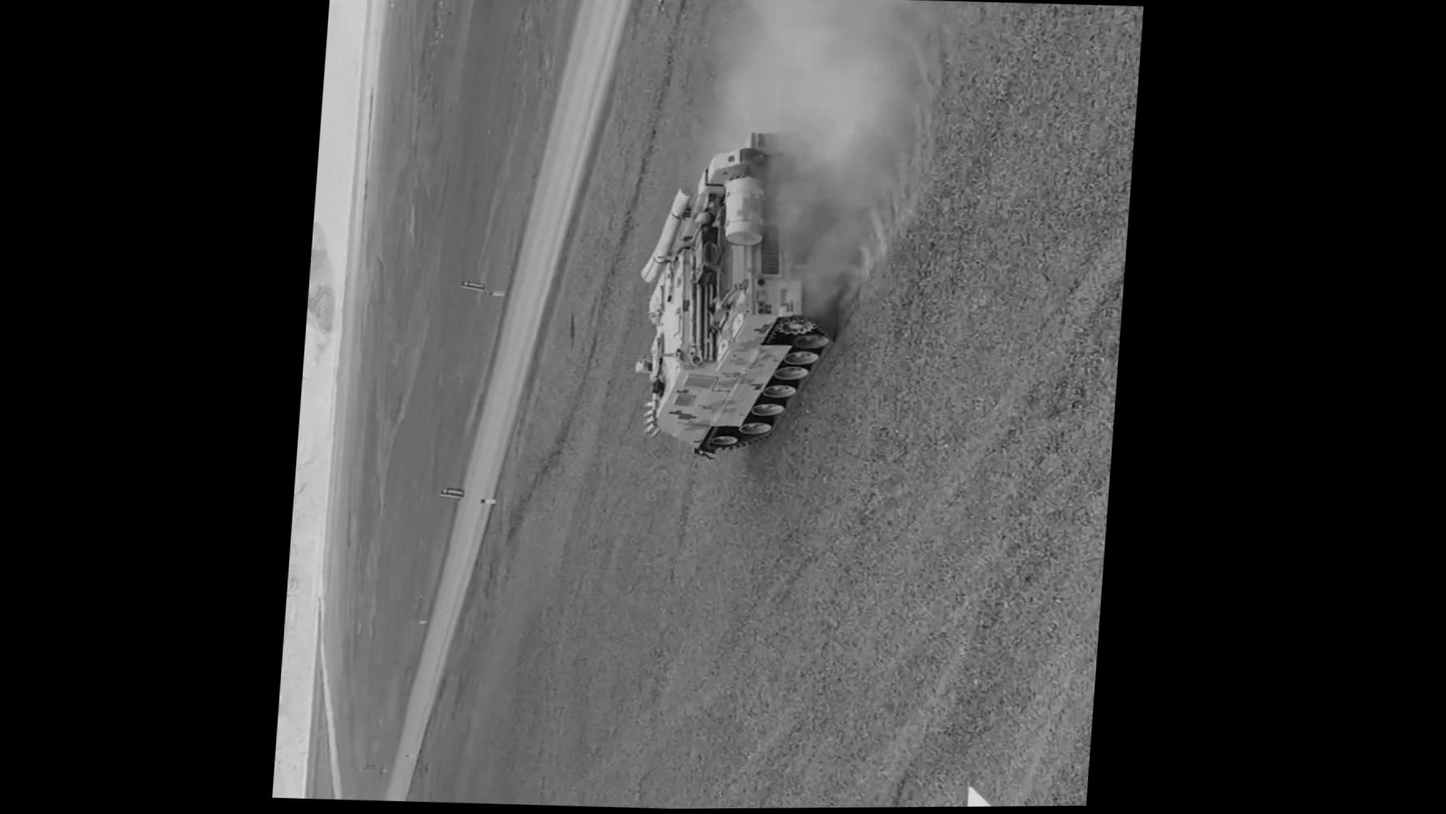armored_car: (626, 131, 851, 460)
